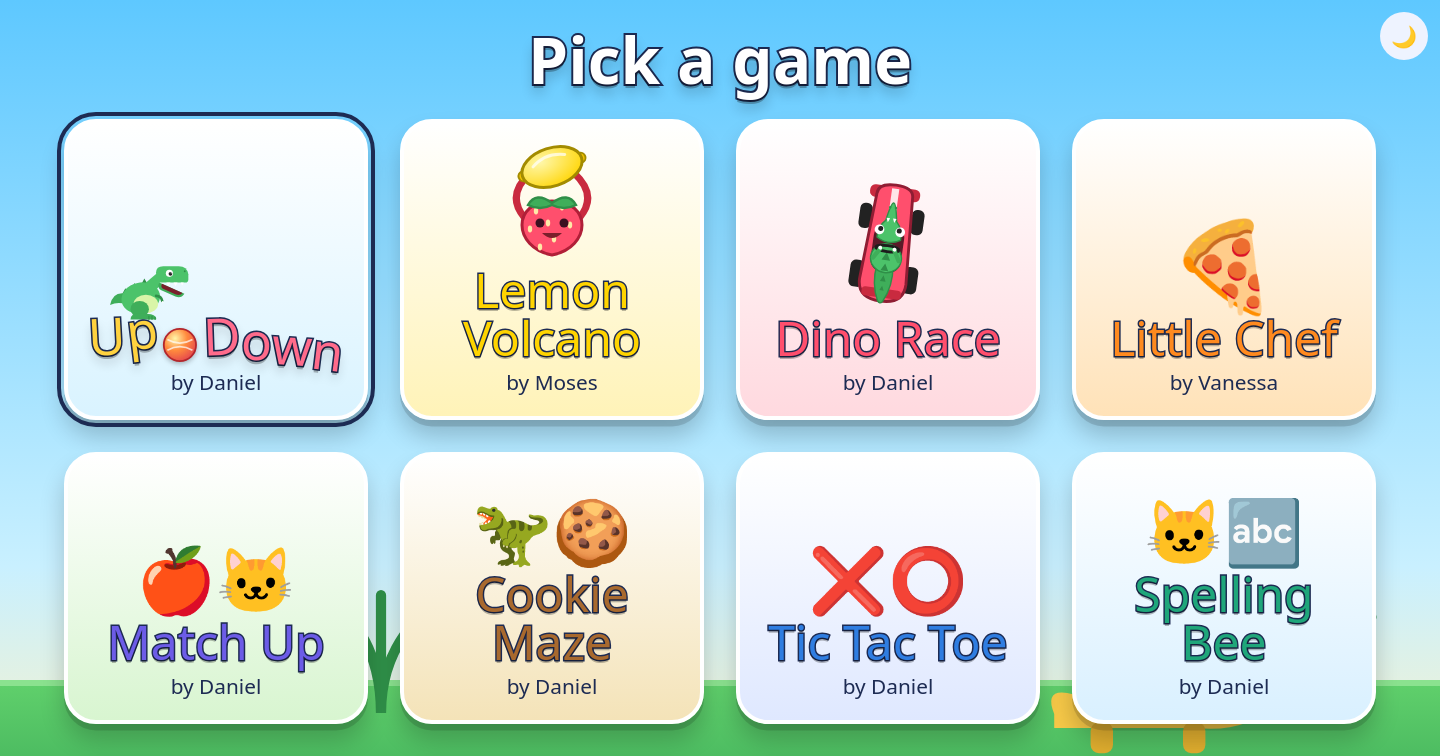
Test: lemon-volcano, from the picker › can always be left, back to the picker
The width and height of the screenshot is (1440, 756).
Click the button with aria-label "Play Lemon Volcano": (552, 270) [400,119,704,420]
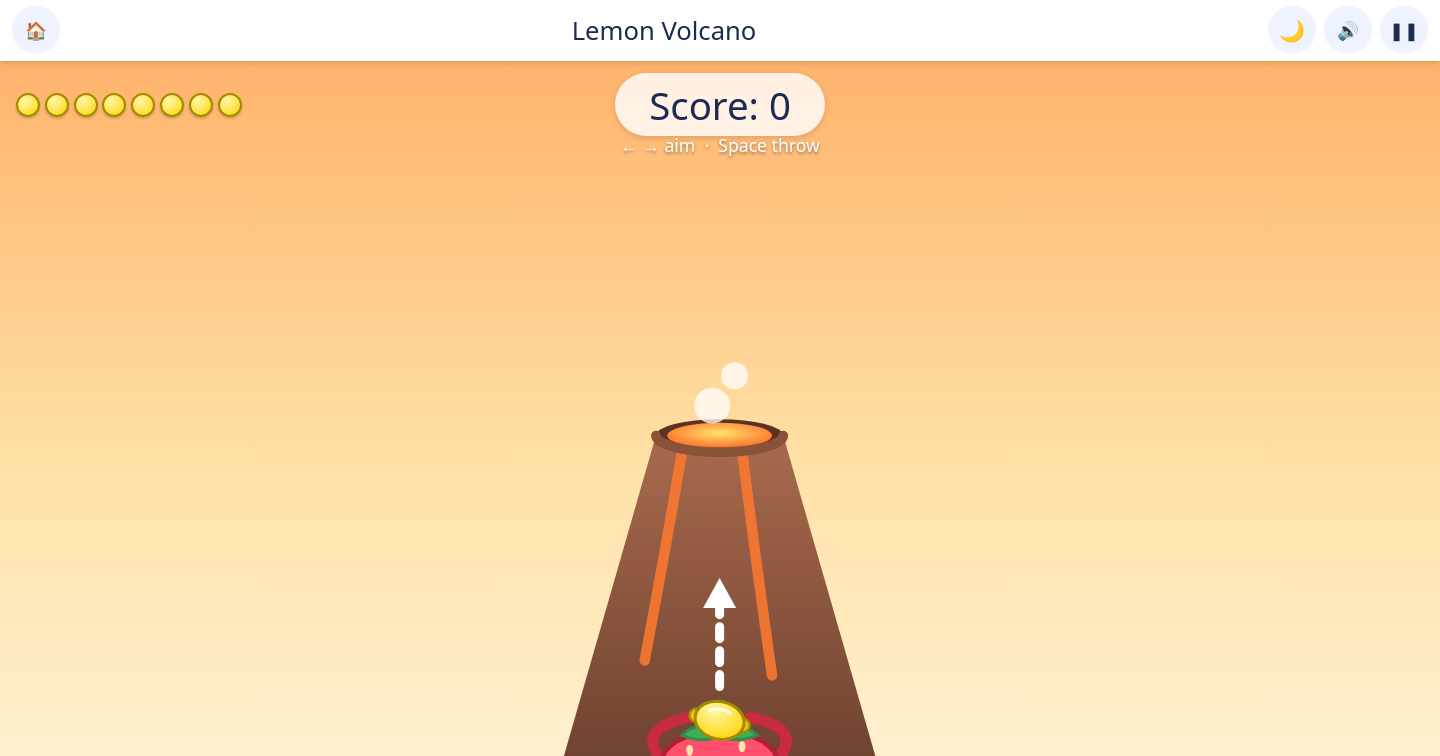
Click the button named "Home": (36, 30) [12,6,60,54]
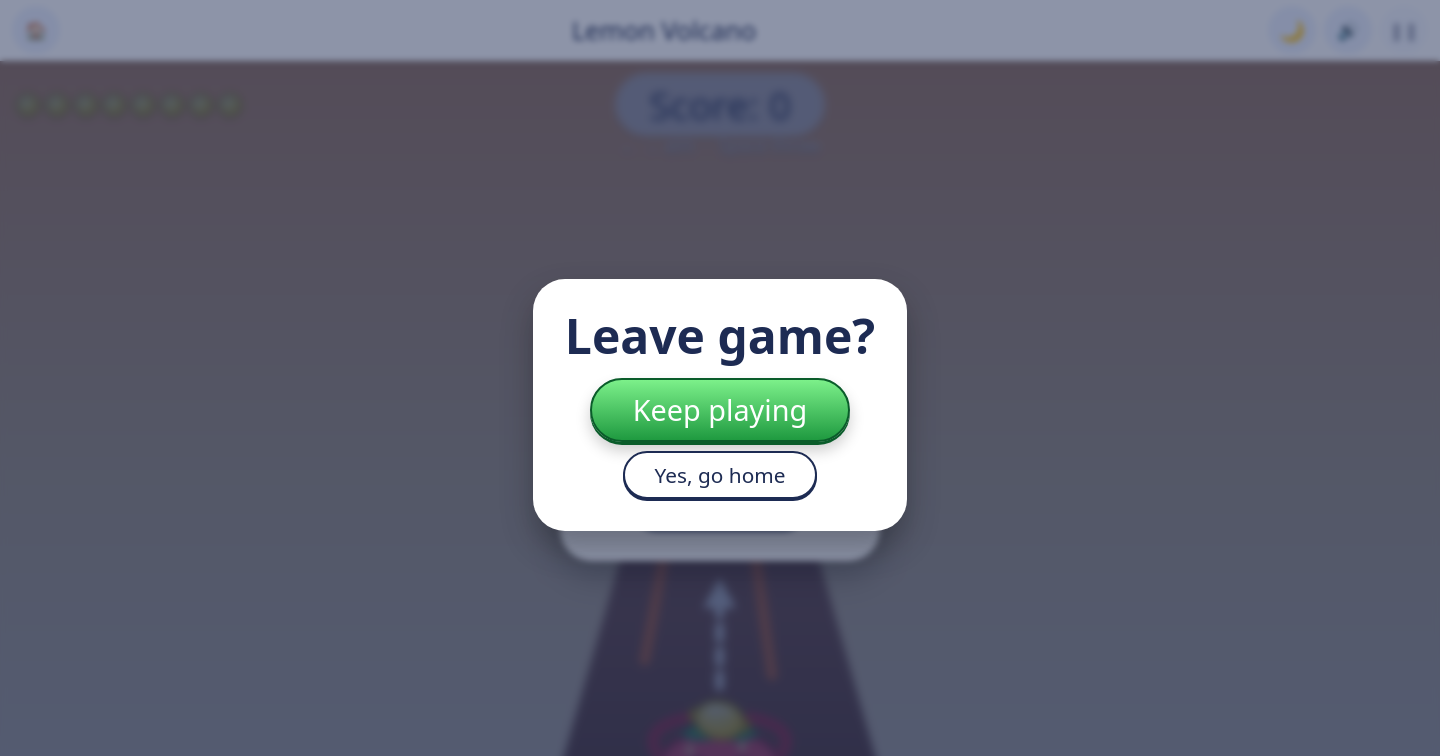
Click the button "Yes, go home": (720, 475) [624,451,816,499]
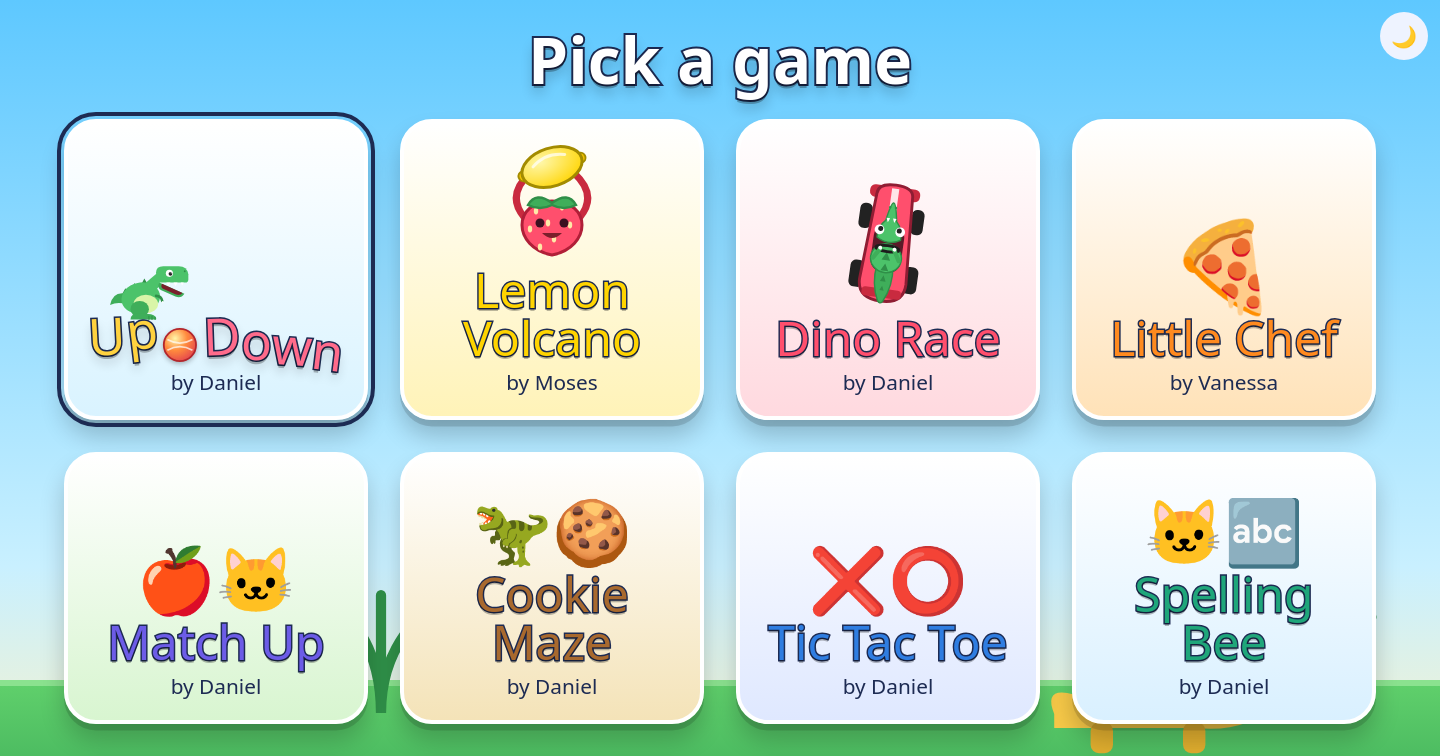
Now the heading "Pick a game" is shown, box [528,16,912,103]
